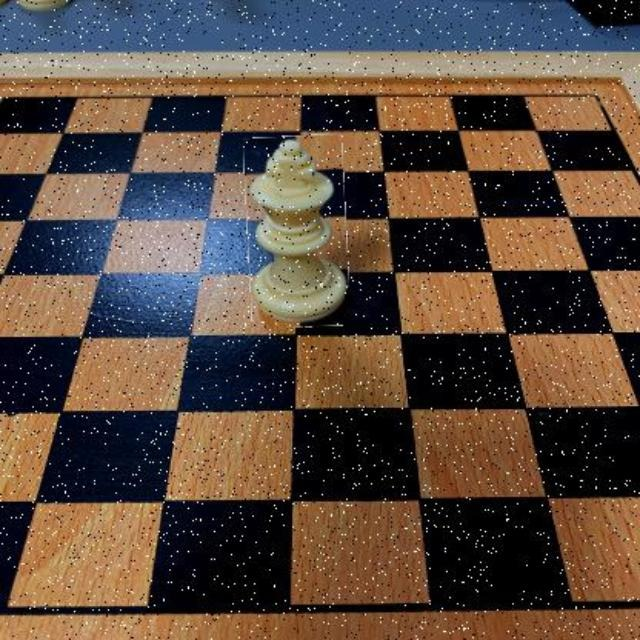white-king: (245, 136, 348, 328)
